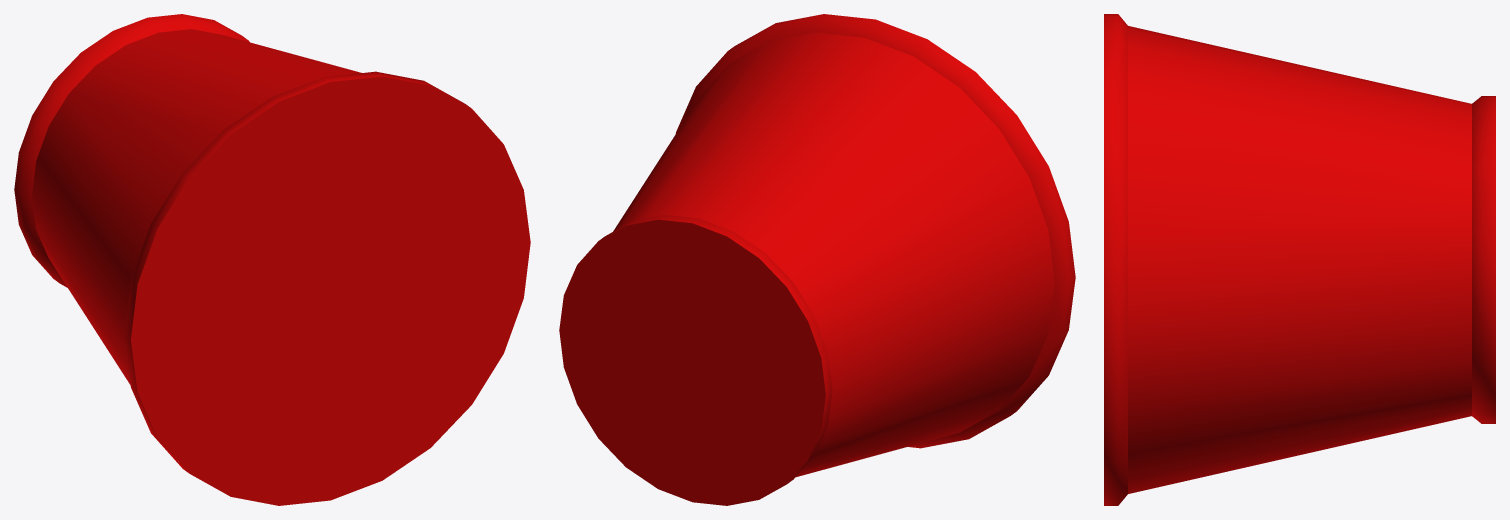
3 views of the same model, side by side, from view 1: azimuth 30°, elevation 25°; view 2: azimuth 150°, elevation 25°; view 3: azimuth 270°, elevation 25° (orthographic). The views are drawn at different scales.
Parts seen in each view (by area): view 1: Mesh; view 2: Mesh; view 3: Mesh.
Part boxes in pixels (x1=…): Mesh: x1=14, y1=14, x2=530, y2=505; Mesh: x1=559, y1=14, x2=1075, y2=505; Mesh: x1=1104, y1=14, x2=1495, y2=505.
Bounding box in the file's own units: 0.6303 × 0.6303 × 0.5.
